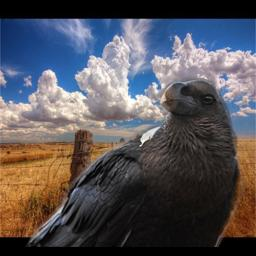Crow: (24, 75, 245, 247)
